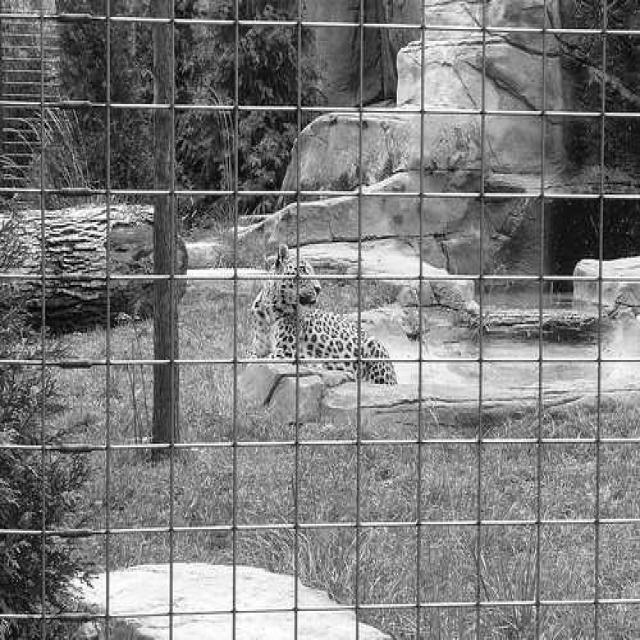Leopard: (249, 242, 396, 386)
